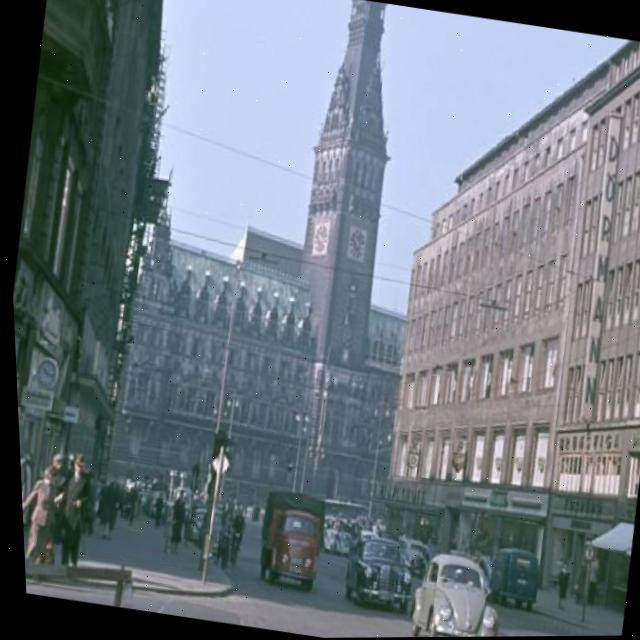vehicle: (401, 550, 501, 638), (247, 496, 321, 593), (339, 524, 412, 613)
